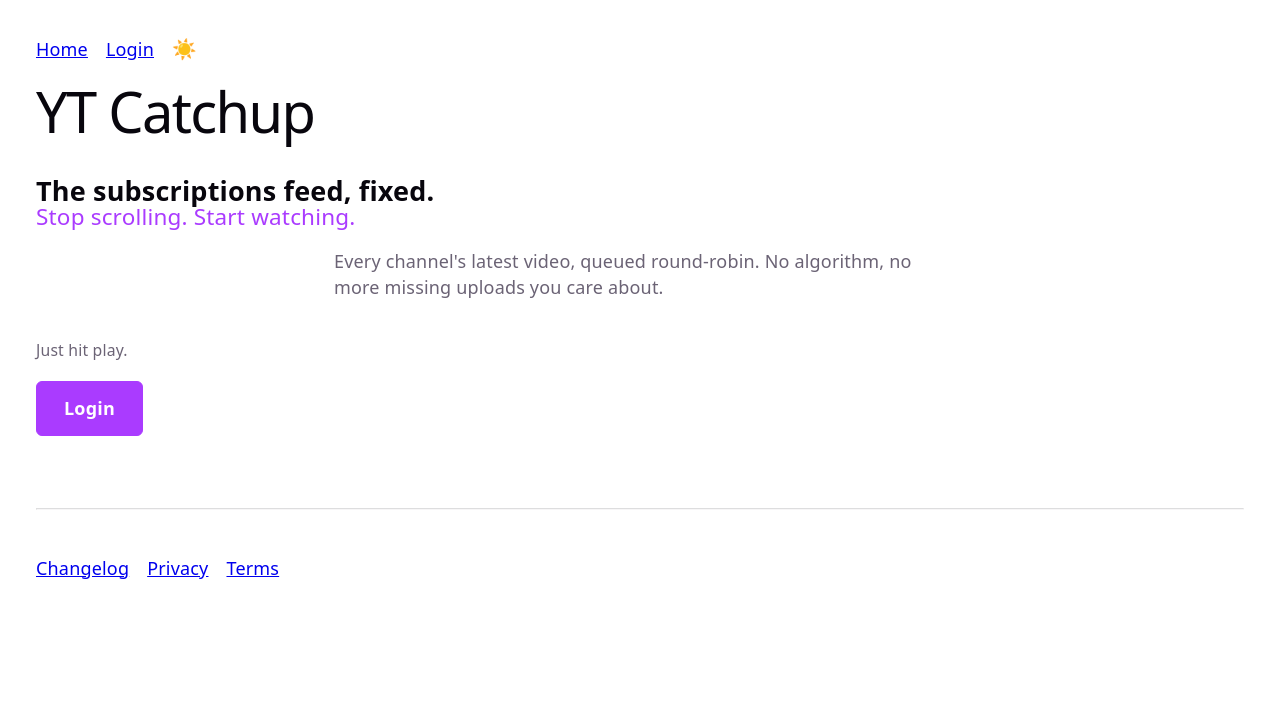
Scenario: theme toggle › toggles the theme, updates the DOM attribute, and persists to localStorage
Step 1. Click the button named "Switch to dark mode" → (184, 49), box [172,36,197,62]
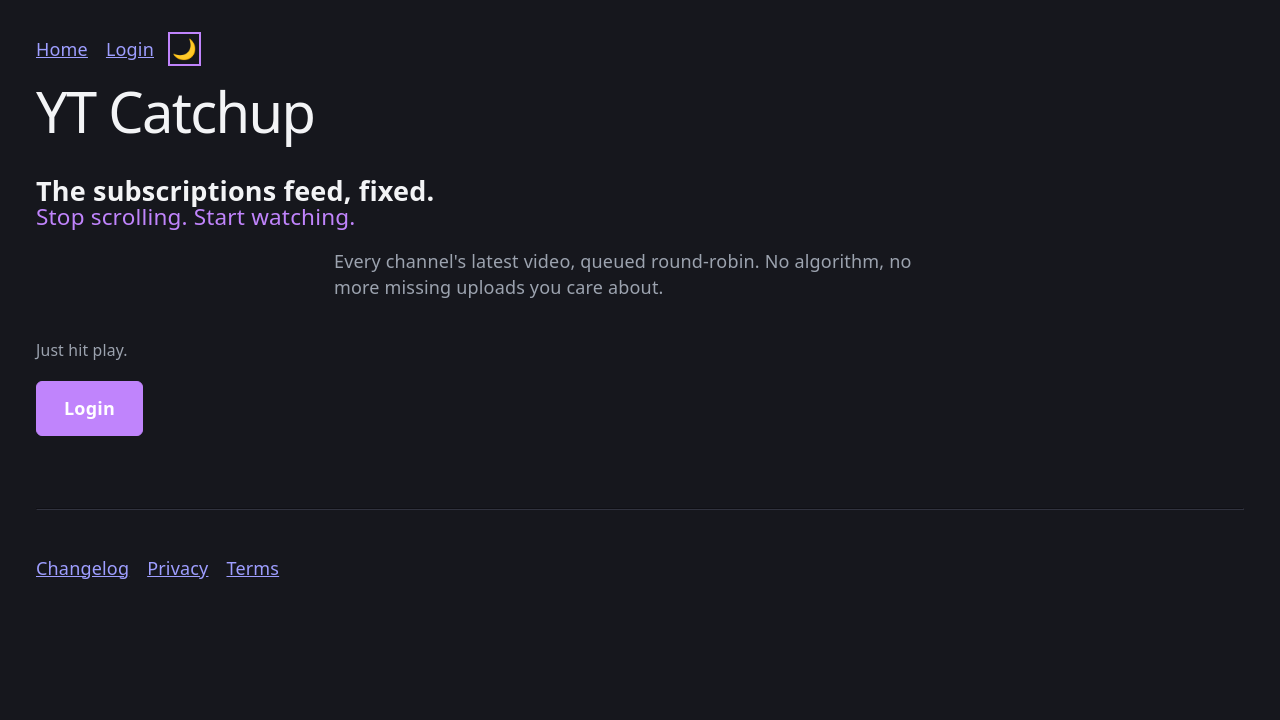
Expected: the button named "Switch to light mode" is shown, [172,36,197,62]
